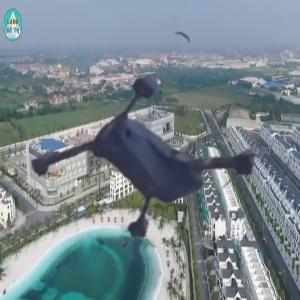drone: (55, 26, 300, 271)
